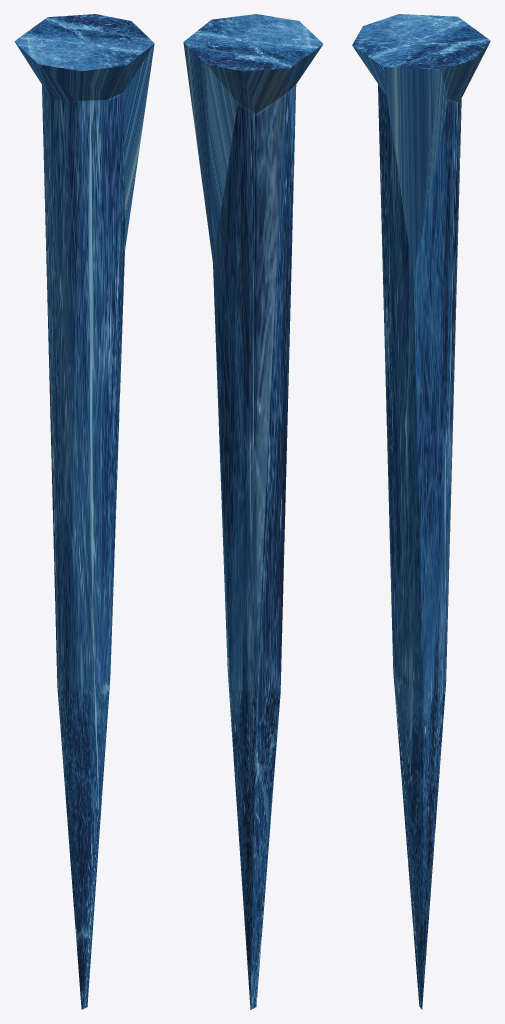
Rendered from InvertedSpike.fbx.
3 renders of one model, left to right at view 1: azimuth 30°, elevation 25°; view 2: azimuth 210°, elevation 25°; view 3: azimuth 270°, elevation 25°, orthographic.
Parts seen in each view (by area): view 1: Cylinder.001; view 2: Cylinder.001; view 3: Cylinder.001.
Boxes of the visible parts, <box> form: Cylinder.001: <box>14,14,154,1009</box>; Cylinder.001: <box>183,14,323,1009</box>; Cylinder.001: <box>352,14,490,1009</box>.
Bounding box in the file's own units: 20.5 × 166 × 21.62.
